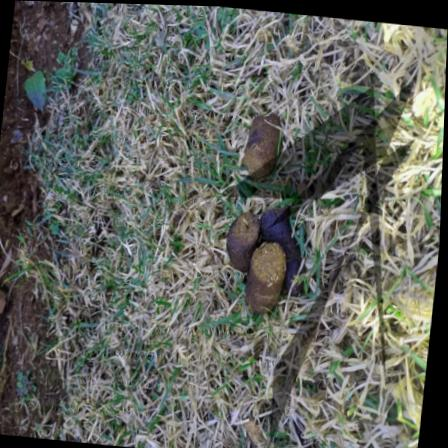dog-poop: (220, 206, 307, 303), (235, 102, 286, 179)
